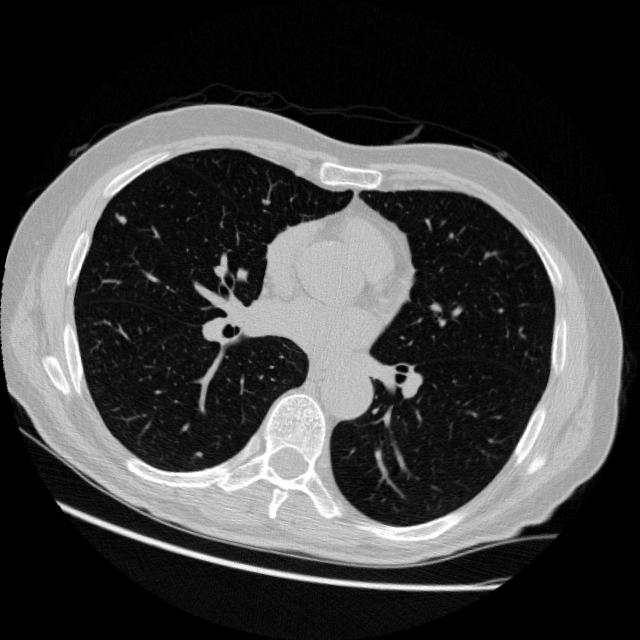nodule: (106, 202, 136, 232)
